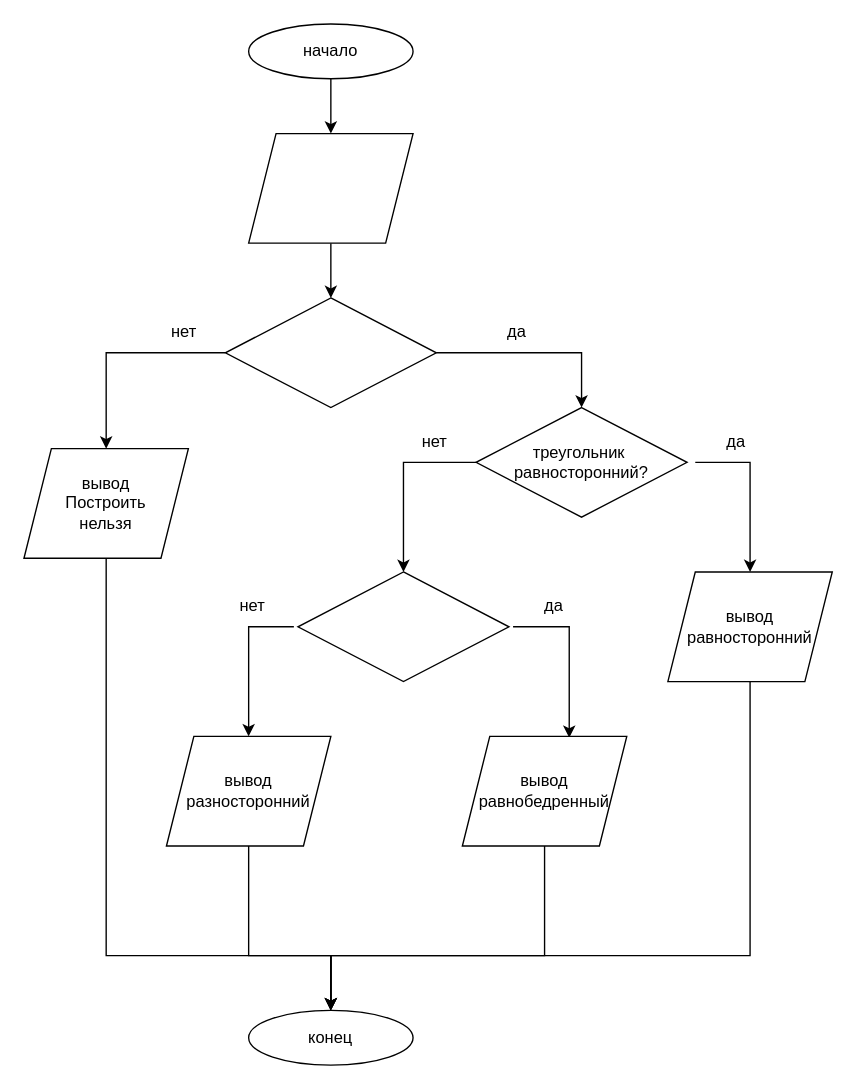
Some shapes in this 856 by 1089 pixel diagram are drawn without their labels. Each missing label, with the box of its shape:
Ввод l1 = ... l2 = ... l3 = ...: (247, 132, 413, 243)
можно построить треугольник?: (224, 297, 436, 408)
Треугольник равнобедренный?: (297, 571, 509, 682)
